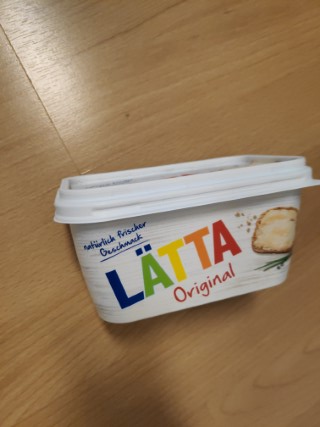laetta: (52, 153, 320, 324)
